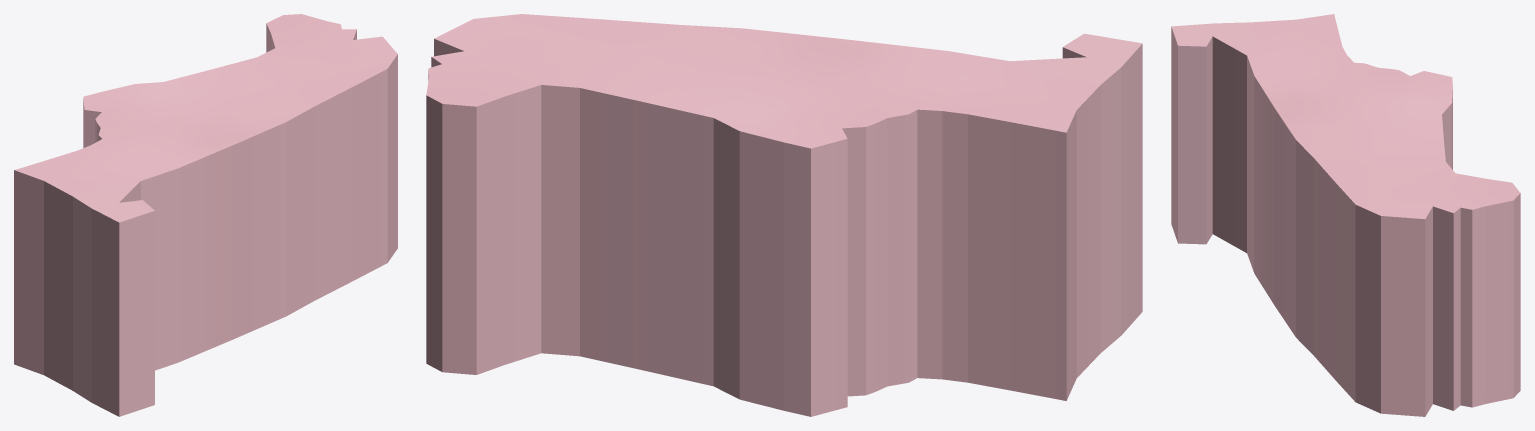
The model's file is hazlet.glb.
3 renders of one model, left to right at view 1: azimuth 30°, elevation 25°; view 2: azimuth 150°, elevation 25°; view 3: azimuth 270°, elevation 25°, orthographic. The views are drawn at different scales.
Visible parts, largest first — view 1: Plane.067; view 2: Plane.067; view 3: Plane.067.
Boxes of the visible parts, bbox=[...] form: Plane.067: bbox=[14, 14, 397, 416]; Plane.067: bbox=[426, 14, 1142, 416]; Plane.067: bbox=[1171, 14, 1520, 416].
Size of the model in its own units: 0.8581 by 0.3856 by 0.6172.
Materials: 1 (1 with a texture image).
